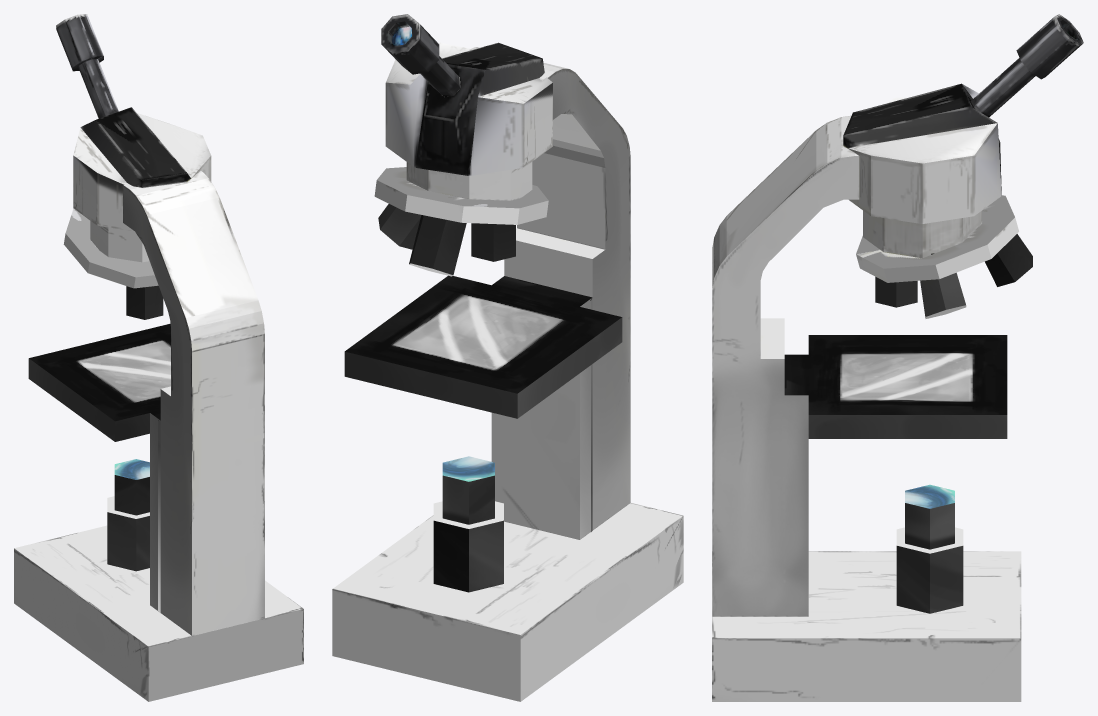
The model's file is MIVCRO (1).fbx.
The picture shows the model from 3 angles, left to right: view 1: azimuth 30°, elevation 25°; view 2: azimuth 150°, elevation 25°; view 3: azimuth 270°, elevation 25°; orthographic projection. The views are drawn at different scales.
Parts seen in each view (by area): view 1: Cube.006; view 2: Cube.006; view 3: Cube.006.
Boxes of the visible parts, left/top/right/bottom form: Cube.006: left=14, top=14, right=303, bottom=701; Cube.006: left=332, top=14, right=683, bottom=701; Cube.006: left=712, top=14, right=1083, bottom=701.
Size of the model in its own units: 21.67 by 74.56 by 39.1.
